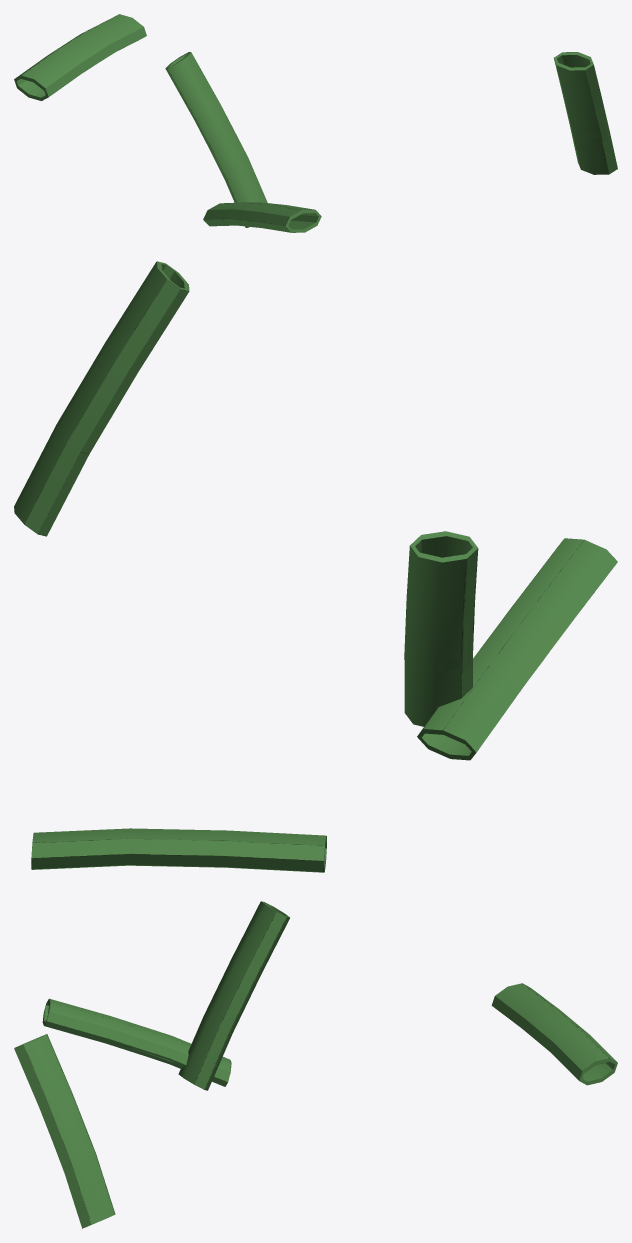
3 views of the same model, one above another, from view 1: azimuth 30°, elevation 25°; view 2: azimuth 150°, elevation 25°; view 3: azimuth 270°, elevation 25° (orthographic). The views are drawn at different scales.
Visible parts, largest first — view 1: Circle.008_Baked; view 2: Circle.008_Baked; view 3: Circle.008_Baked.
Part boxes in pixels (left/top/right/bottom): Circle.008_Baked: left=14, top=14, right=617, bottom=232; Circle.008_Baked: left=14, top=261, right=617, bottom=872; Circle.008_Baked: left=14, top=901, right=617, bottom=1228.
Bounding box in the file's own units: 46.76 × 19.51 × 57.71.
Materials: 1 (1 with a texture image).
